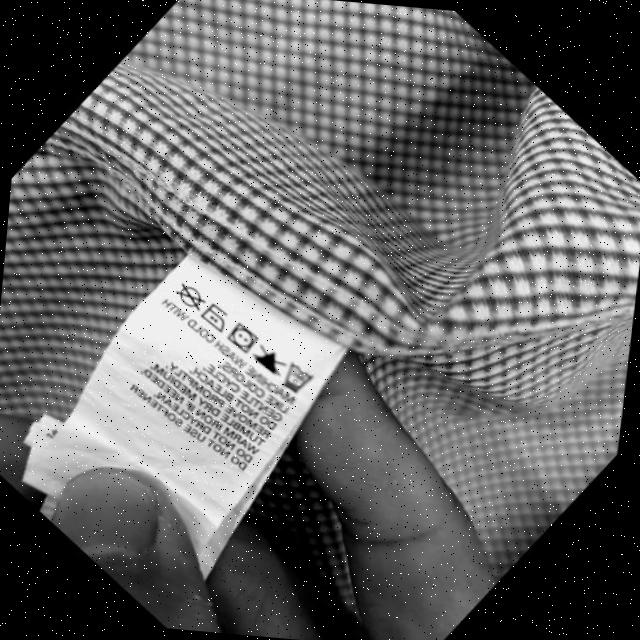ER_iron_medium_temp: (201, 300, 231, 332)
ER_no_bleach: (254, 345, 284, 374)
ER_no_dry_clean: (176, 283, 205, 309)
ER_tumble_dry_normal_heat: (228, 318, 259, 353)
